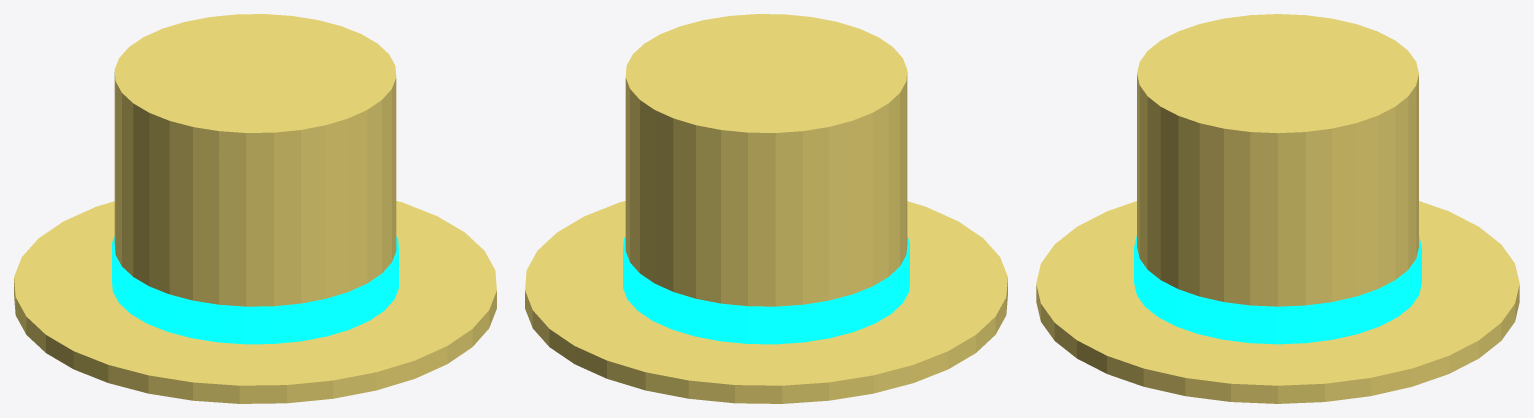
The model's file is SM_MamaWonder_EmpressHat.glb.
3 renders of one model, left to right at view 1: azimuth 30°, elevation 25°; view 2: azimuth 150°, elevation 25°; view 3: azimuth 270°, elevation 25°, orthographic.
Parts seen in each view (by area): view 1: SM_MamaWonder_EmpressHat; view 2: SM_MamaWonder_EmpressHat; view 3: SM_MamaWonder_EmpressHat.
Part boxes in pixels (x1,y1,x2,y2): SM_MamaWonder_EmpressHat: (14,14,496,403); SM_MamaWonder_EmpressHat: (525,14,1007,403); SM_MamaWonder_EmpressHat: (1036,14,1519,403).
Size of the model in its own units: 0.96 by 0.5 by 0.96.
